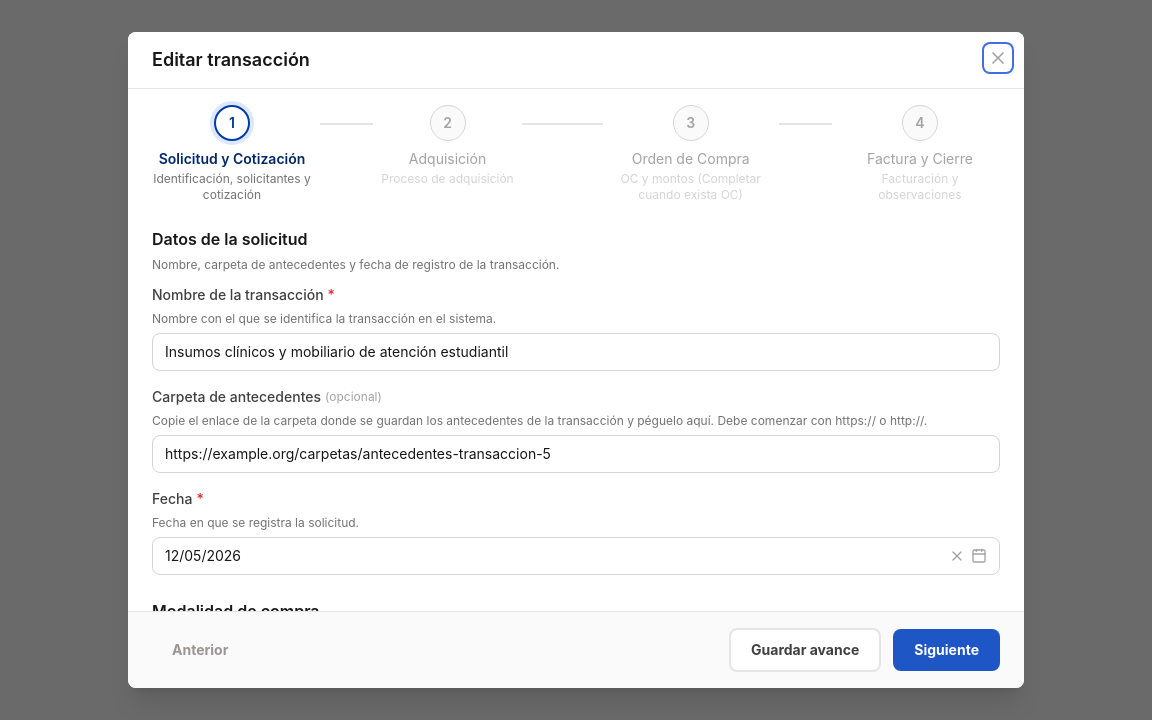
it: TransaccionEditModal en el paso Adquisición › pide la fecha del hecho al pulsar Siguiente con un paso pendiente
Click the button named "Paso 2: Adquisición". click: {"x": 448, "y": 123}
box: [430,105,466,141]
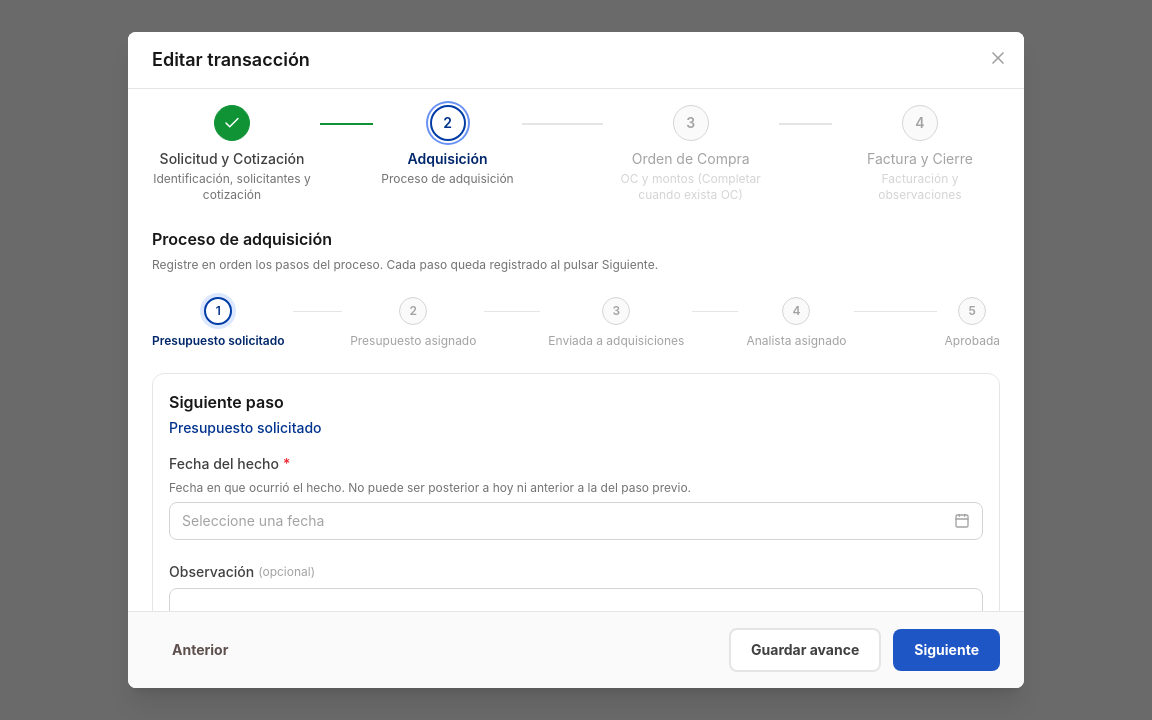
Click the button "Siguiente". click: {"x": 947, "y": 650}
box: [893,629,1000,671]
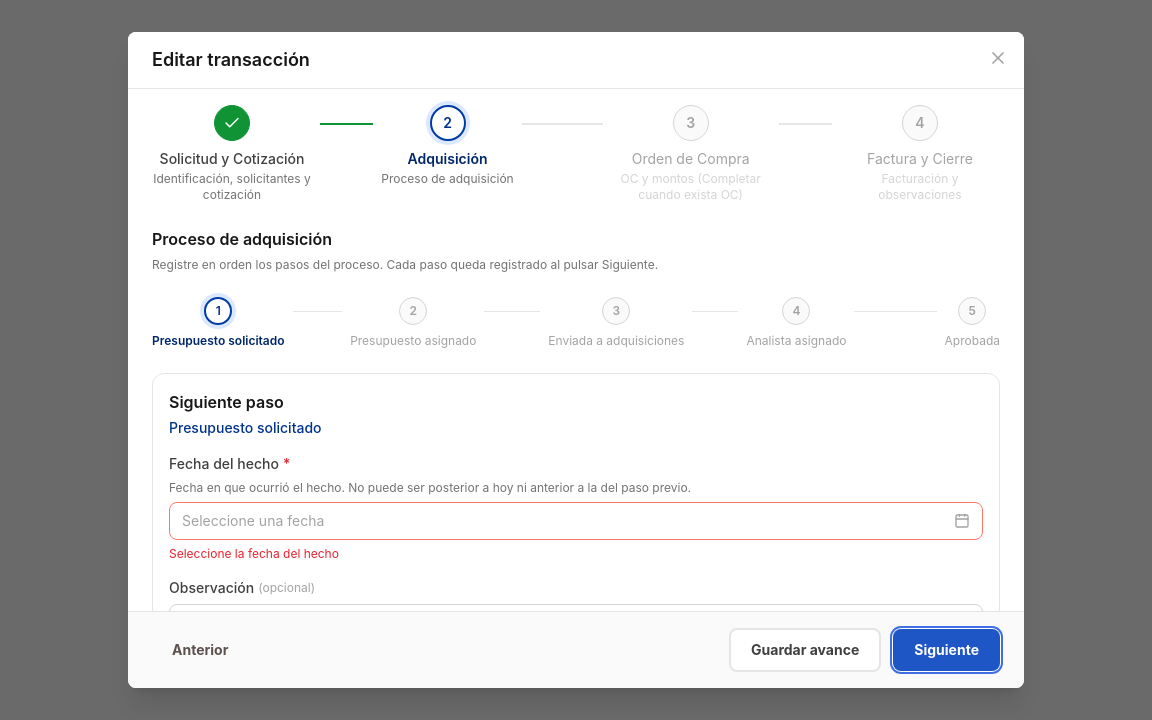
Expected: the text "Seleccione la fecha del hecho" is shown, [169,546,339,561]
